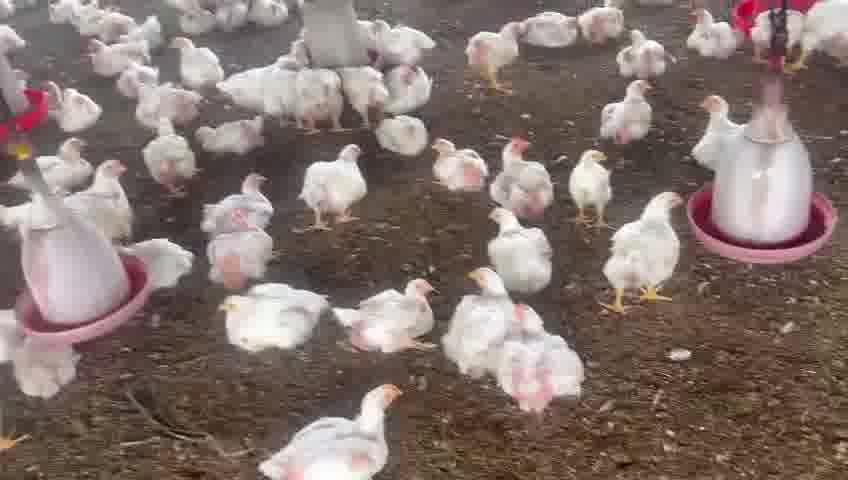AbNormal: (189, 108, 273, 151)
Normal: (248, 382, 415, 480), (494, 302, 590, 410), (595, 192, 681, 308), (222, 282, 327, 376), (338, 279, 441, 360), (446, 262, 504, 374), (474, 202, 550, 287), (296, 143, 368, 230), (483, 128, 552, 212), (196, 209, 273, 284), (190, 167, 281, 222), (593, 71, 655, 147), (566, 147, 617, 234), (463, 26, 535, 83), (69, 158, 133, 222), (145, 121, 203, 191), (430, 134, 492, 198), (686, 4, 752, 64), (295, 67, 349, 131), (612, 28, 676, 80), (44, 131, 99, 185), (168, 38, 226, 89), (345, 67, 395, 123)
